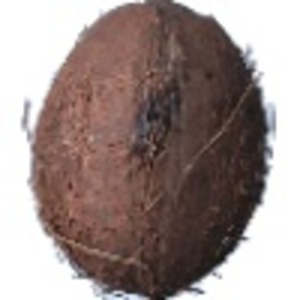coco: (24, 1, 277, 300)
